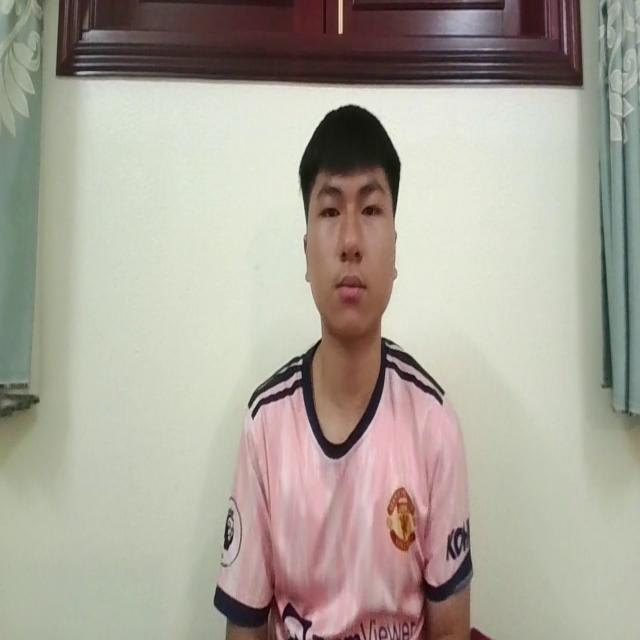student: (217, 102, 471, 640)
